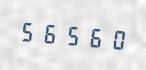five: (18, 15, 39, 47), (62, 19, 83, 50)
six: (40, 17, 61, 48), (84, 21, 105, 52)
zero: (106, 22, 127, 54)
